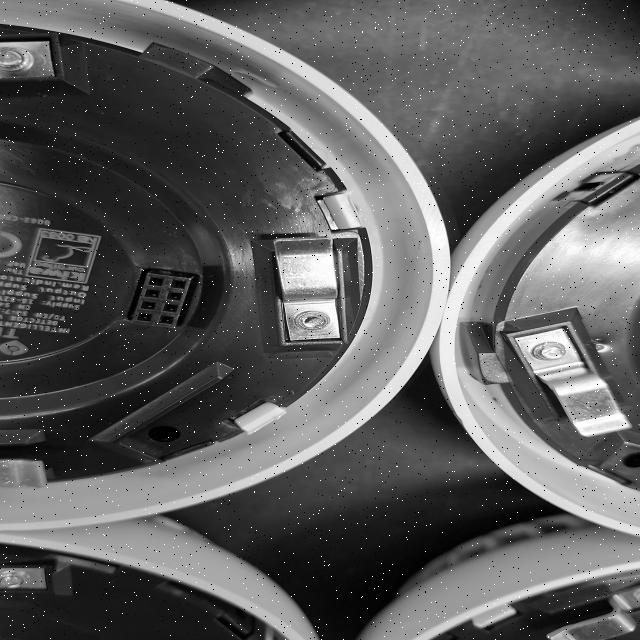yaysiz: (506, 308, 640, 460), (247, 222, 368, 352)
